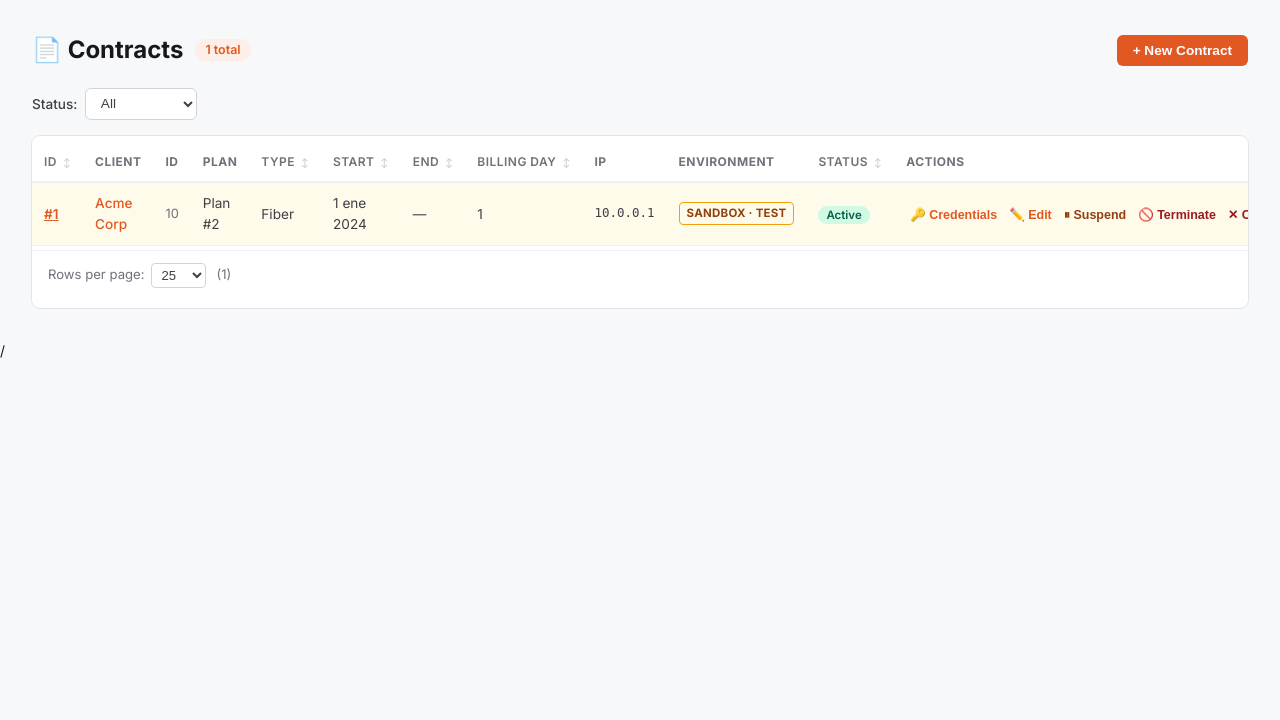
Test case: ContractList page › keeps the sandbox warning visible when opening contract credentials
Click the button "🔑 Credentials". click: coordinates (954, 214)
box: [906,204,1001,224]
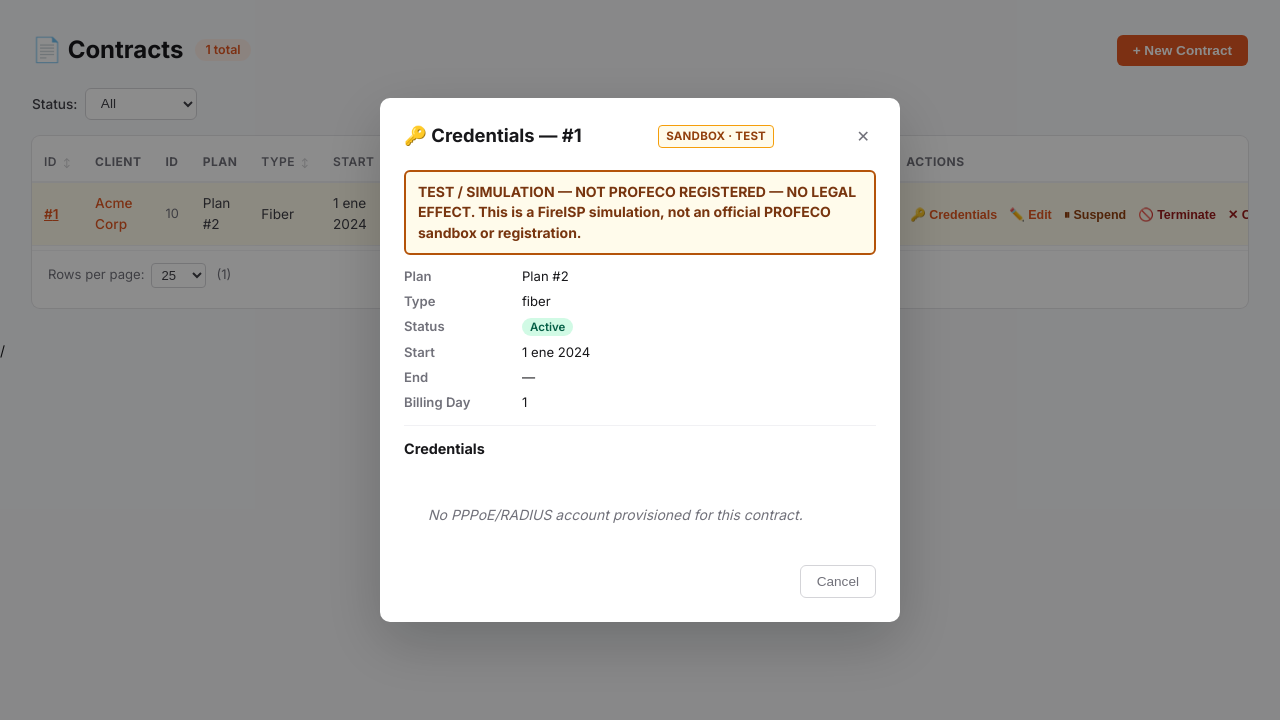
Check: the text "SANDBOX · TEST" is shown, box [658,125,774,148]
Check: the message with test id "mx-contract-sandbox-banner" shows "NO LEGAL EFFECT", box [418,183,856,241]
